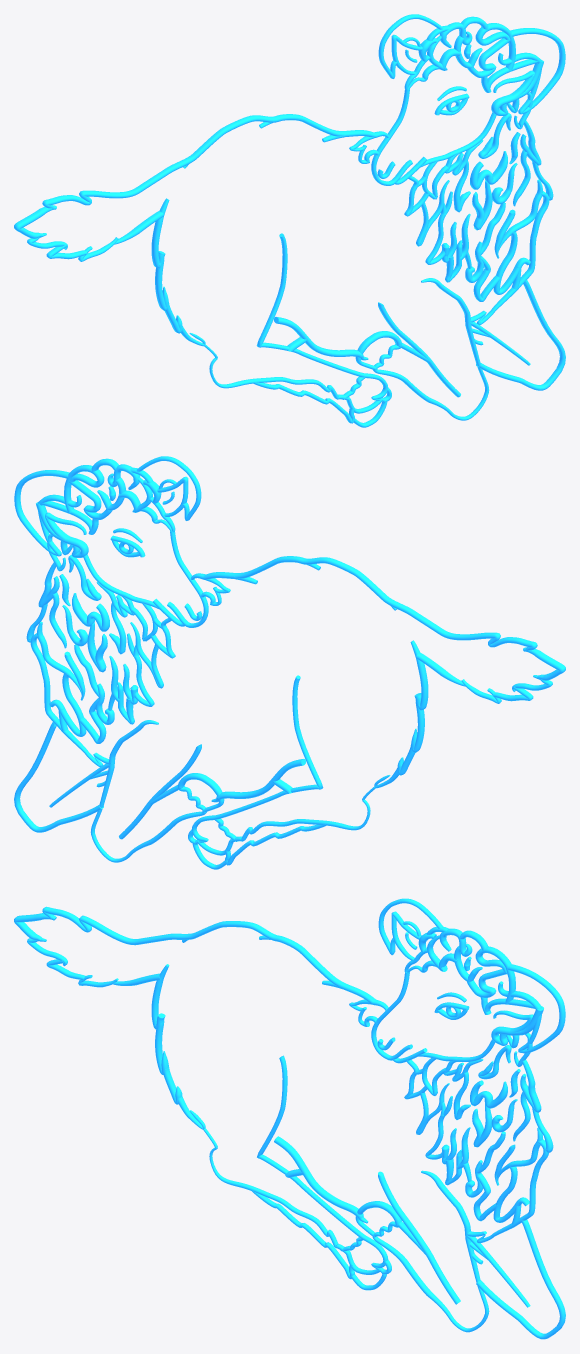
Rendered from aries-constellation-dhazele-4.glb.
3 renders of one model, top to bottom at view 1: azimuth 30°, elevation 25°; view 2: azimuth 150°, elevation 25°; view 3: azimuth 330°, elevation 25°, orthographic.
Visible parts, largest first — view 1: BezierCurve.001; view 2: BezierCurve.001; view 3: BezierCurve.001.
Boxes of the visible parts, <box> form: BezierCurve.001: <box>14,14,565,427</box>; BezierCurve.001: <box>14,456,565,869</box>; BezierCurve.001: <box>14,898,565,1339</box>.
Size of the model in its own units: 4.25 by 3.09 by 0.0725.
